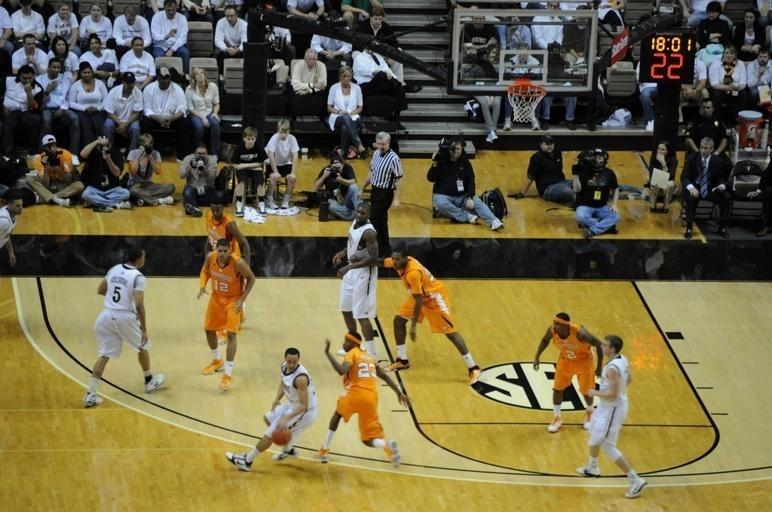basketball-player: (374, 235, 492, 386), (221, 338, 321, 479), (81, 245, 165, 407), (576, 330, 651, 505), (316, 330, 409, 468), (522, 310, 605, 435), (190, 234, 256, 391), (330, 200, 384, 363), (190, 198, 256, 330)
